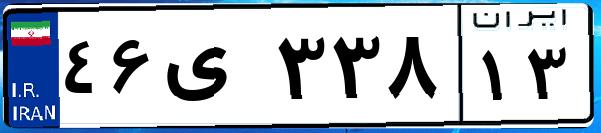1: (475, 38, 525, 113)
3: (270, 28, 330, 110), (330, 28, 385, 110), (525, 38, 570, 115)
4: (57, 26, 110, 100)
6: (110, 28, 158, 98)
8: (385, 28, 445, 110)
ی: (158, 20, 270, 120)
